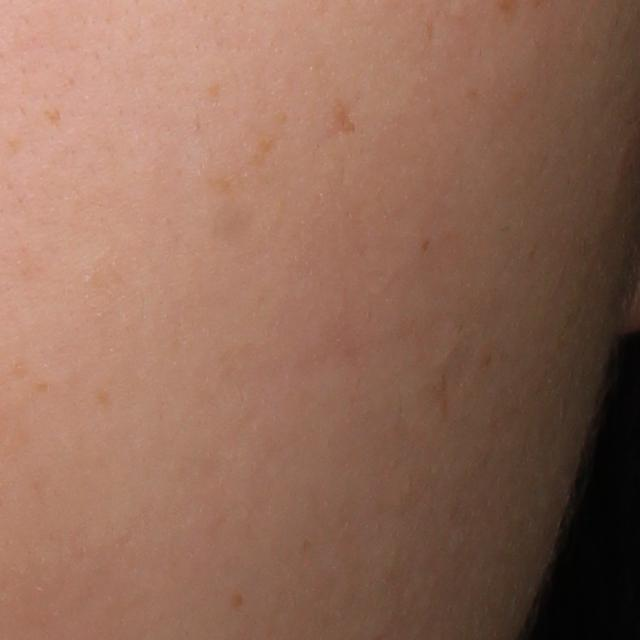melasma: (319, 101, 365, 140), (41, 106, 61, 125), (96, 388, 112, 407), (228, 590, 245, 607), (33, 381, 53, 394)
